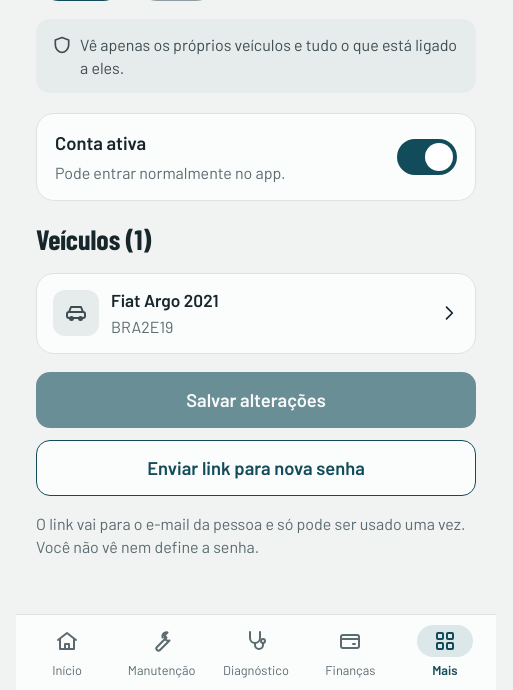
Test: Usuário › envia link para nova senha sem mostrar senha
(page scrolled)
Click the button "Enviar link para nova senha". click: (256, 468)
box: x1=36 y1=440 x2=476 y2=496
(page scrolled)
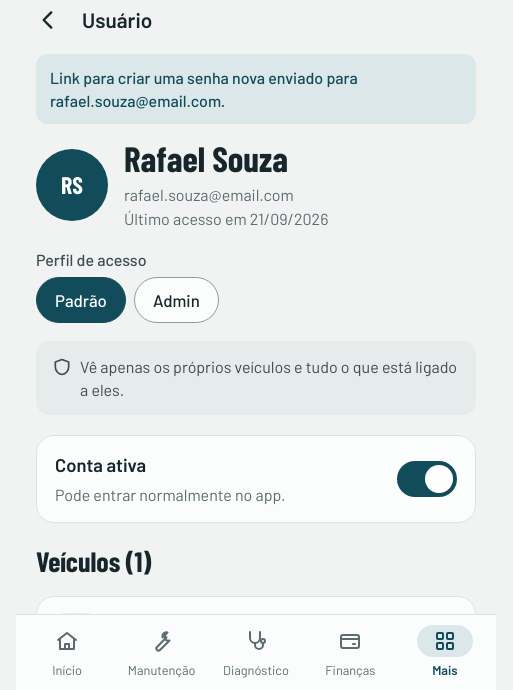
Expected: the text "Link para criar uma senha nova enviado para rafael.souza@email.com." is shown, x1=36 y1=54 x2=476 y2=124
